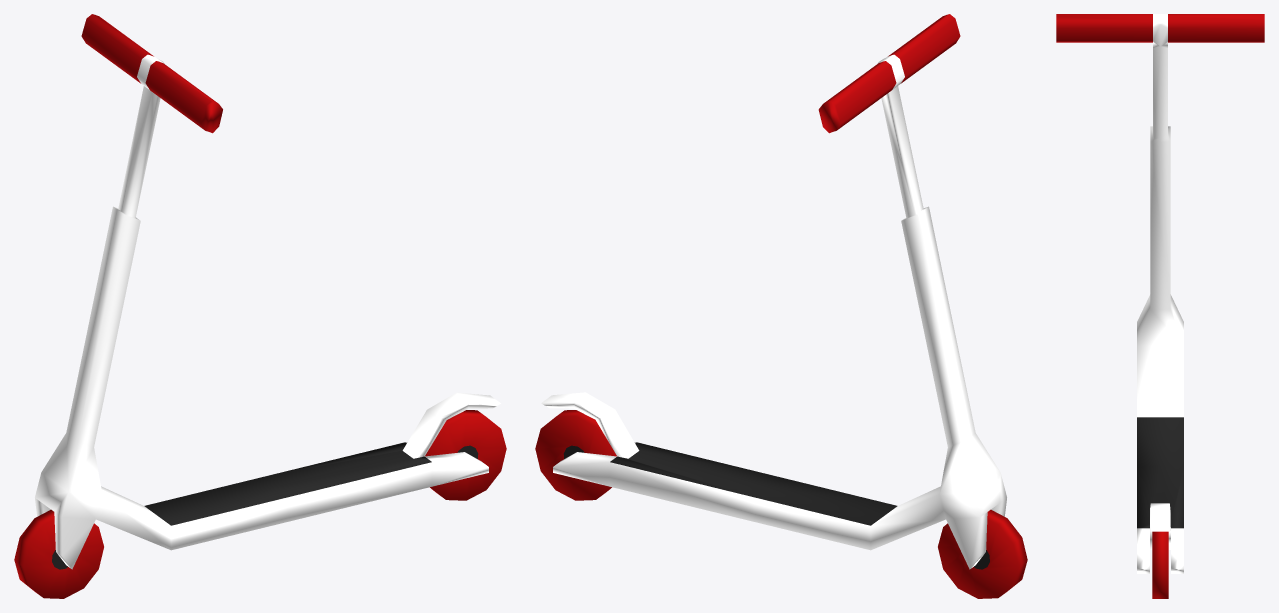
The model's file is ScooterRed.glb.
3 renders of one model, left to right at view 1: azimuth 30°, elevation 25°; view 2: azimuth 150°, elevation 25°; view 3: azimuth 270°, elevation 25°, orthographic. The views are drawn at different scales.
Parts seen in each view (by area): view 1: ScooterRed; view 2: ScooterRed; view 3: ScooterRed.
Part boxes in pixels (<box>): ScooterRed: <box>14,14,506,598</box>; ScooterRed: <box>535,14,1027,598</box>; ScooterRed: <box>1056,14,1264,598</box>.
Size of the model in its own units: 1.03 by 1.05 by 0.4408.
1 material, 1 textured.
